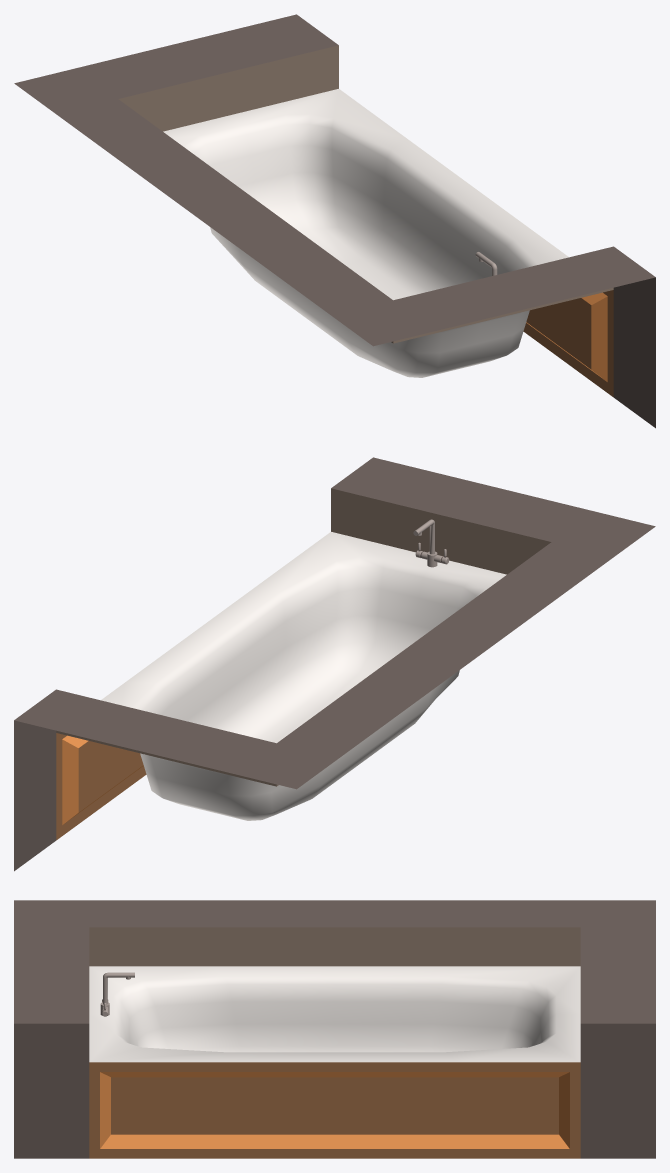
File: Bath.fbx
3 views of the same model, one above another, from view 1: azimuth 30°, elevation 25°; view 2: azimuth 150°, elevation 25°; view 3: azimuth 270°, elevation 25° (orthographic). The views are drawn at different scales.
Parts seen in each view (by area): view 1: Bath; view 2: Bath; view 3: Bath.
Part boxes in pixels (<box>): Bath: <box>14,14,655,428</box>; Bath: <box>14,457,655,871</box>; Bath: <box>14,900,655,1158</box>.
Size of the model in its own units: 136 by 300 by 70.95.
